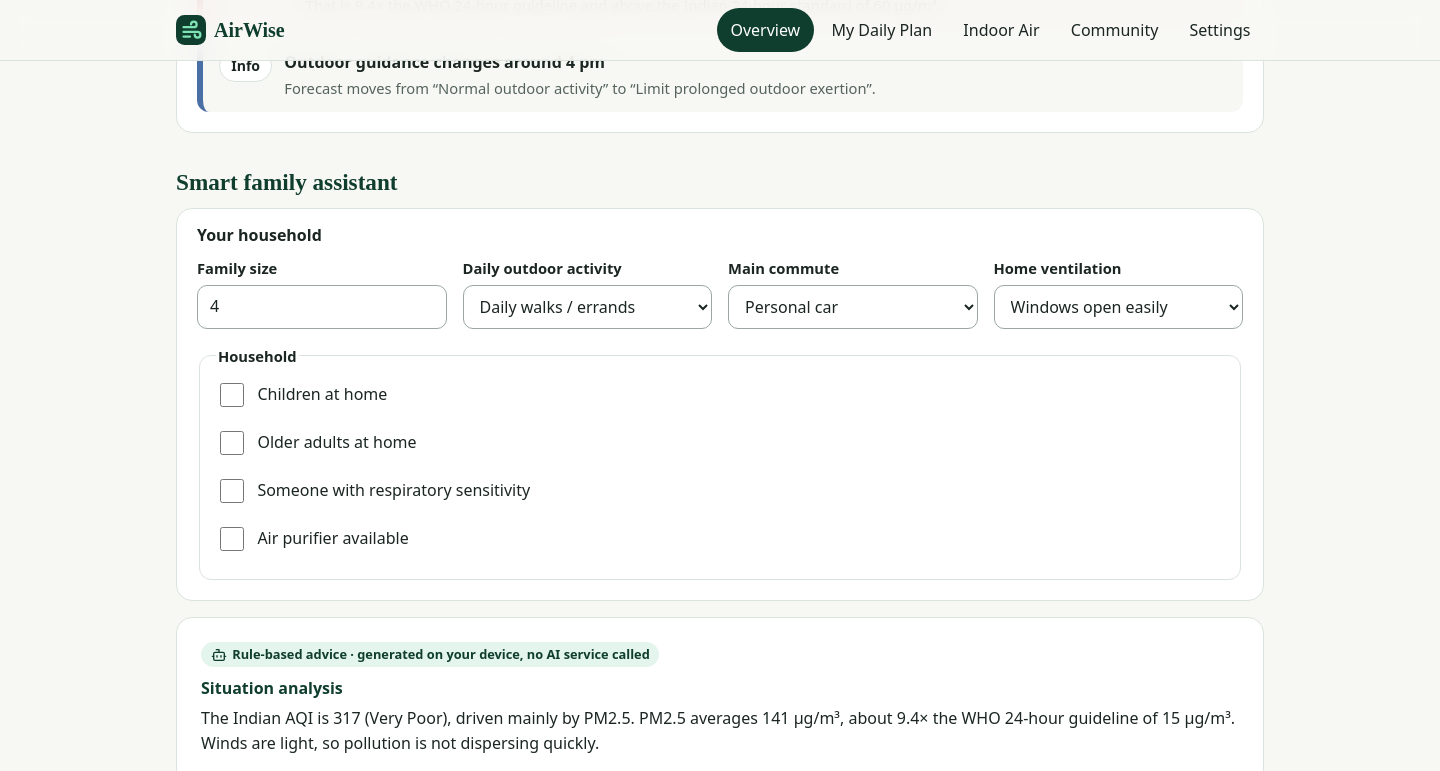
Test case: personalisation › changes the recommendation when the household changes
(page scrolled)
Click the checkbox labelled "Older adults at home" at (232, 443), box [220,431,244,455]
(page scrolled)
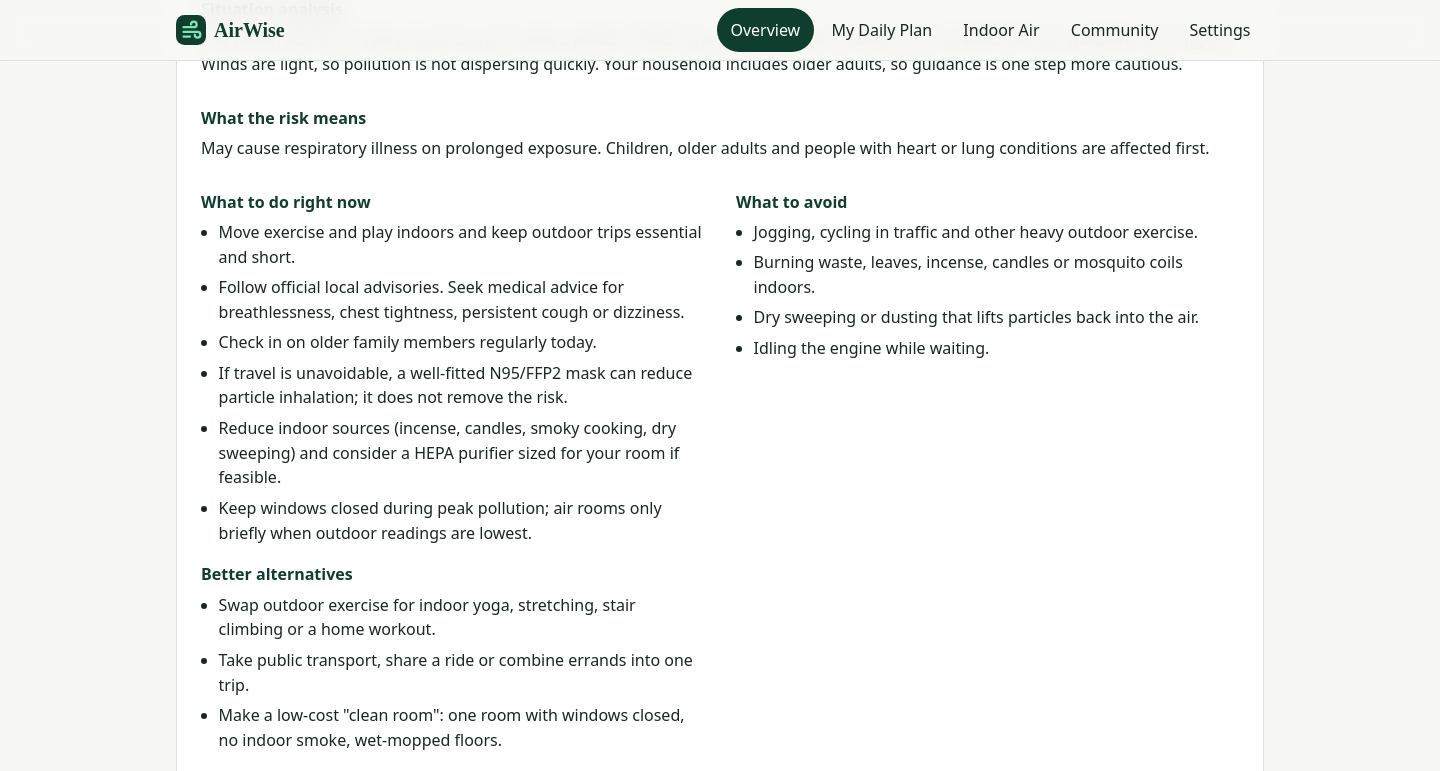
Check: the element with class "advice" shows "older", box [201,28,1235,75]
